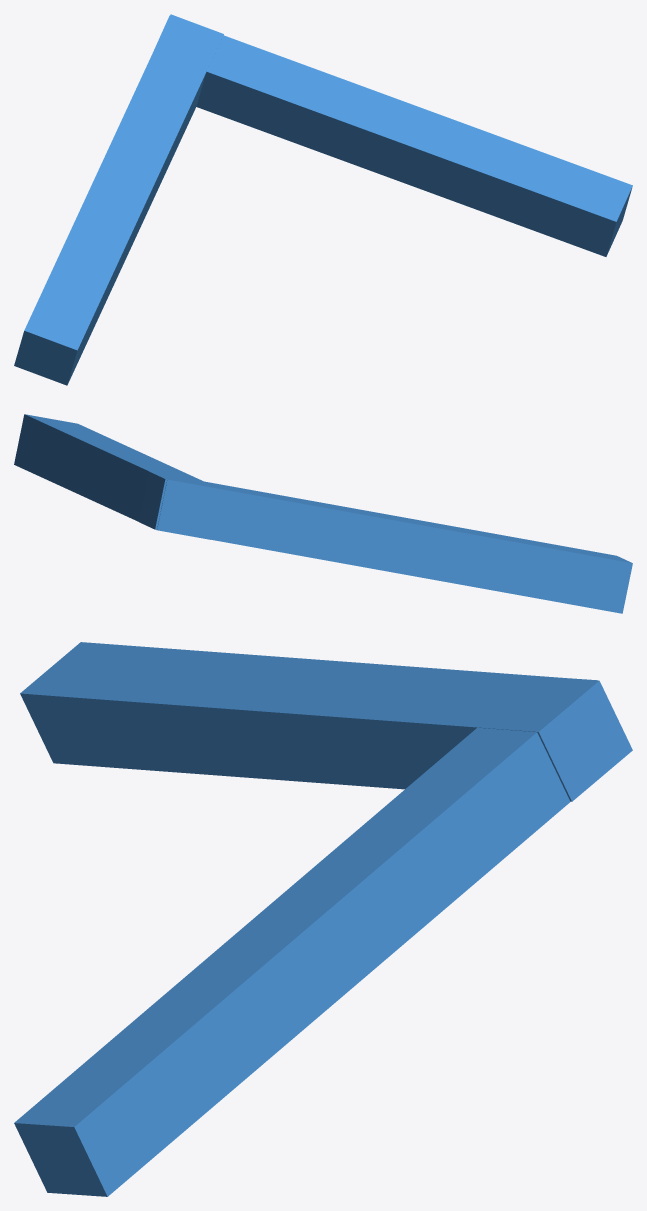
File: arrow.glb
3 renders of one model, top to bottom at view 1: azimuth 30°, elevation 25°; view 2: azimuth 150°, elevation 25°; view 3: azimuth 270°, elevation 25°, orthographic. The views are drawn at different scales.
Visible parts, largest first — view 1: Cube, Cube.001; view 2: Cube.001, Cube; view 3: Cube, Cube.001.
Boxes of the visible parts, bbox=[...] form: Cube: bbox=[154, 15, 632, 256]; Cube.001: bbox=[14, 14, 223, 385]; Cube.001: bbox=[139, 471, 632, 613]; Cube: bbox=[14, 414, 220, 539]; Cube: bbox=[14, 678, 596, 1196]; Cube.001: bbox=[20, 642, 632, 801].
Bounding box in the file's own units: 2.83 × 0.8214 × 1.53.
